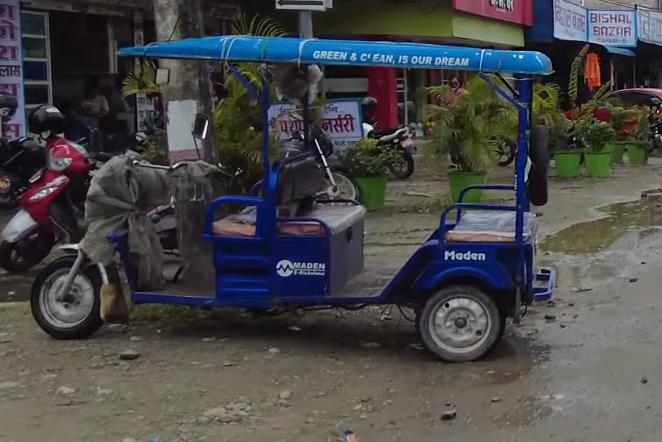e-rickshaw: (29, 31, 557, 365)
scooter: (0, 124, 99, 274)
